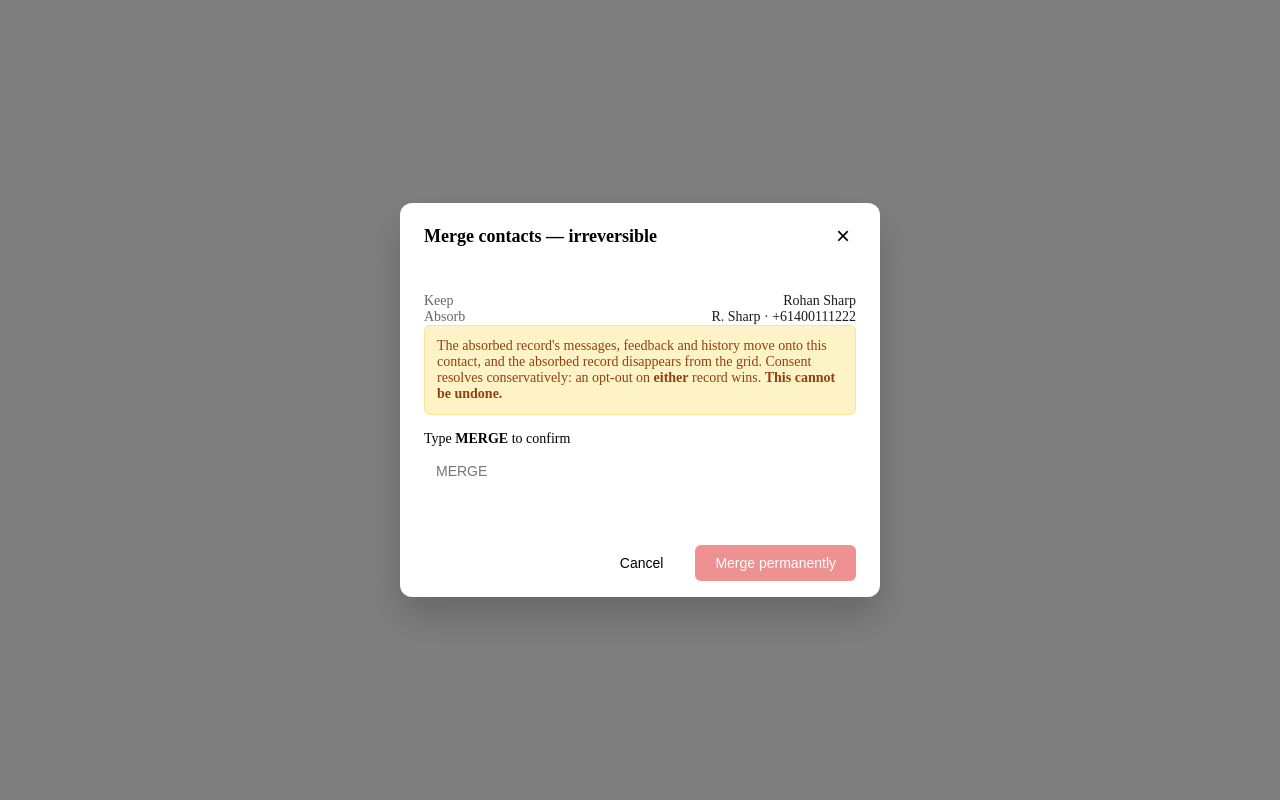
Test case: MergeContactsModal › names both records and disables Merge until MERGE is typed exactly
The image size is (1280, 800).
Check: the text "Rohan Sharp" is shown, box [783,293,856,309]
Check: the text "R. Sharp · +61400111222" is shown, box [712,309,856,325]
Type "merge" into the field labelled "Type MERGE to confirm" at (652, 471), box [424,453,880,489]
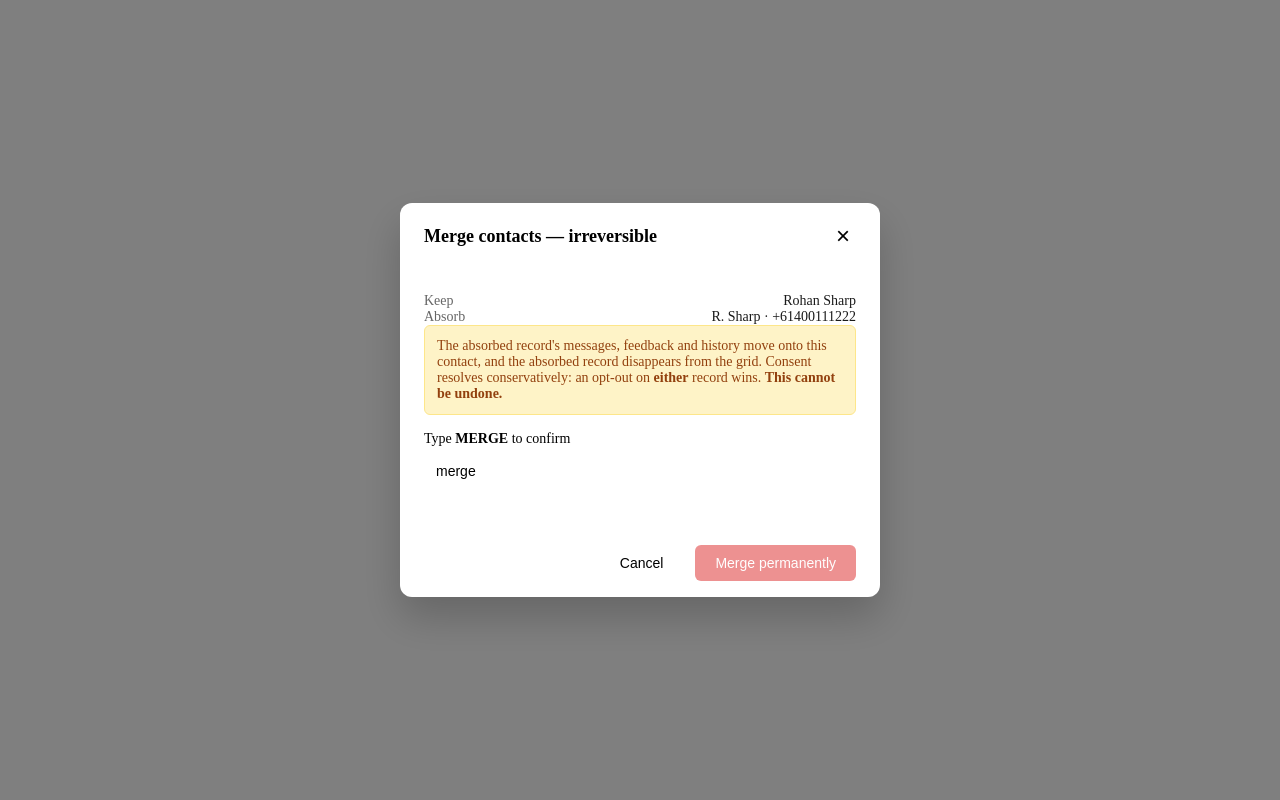
Check: the button "Merge permanently" is disabled, box [695,545,856,581]
Replace the text in the field labelled "Type MERGE to confirm" with "MERGE" at (652, 471), box [424,453,880,489]
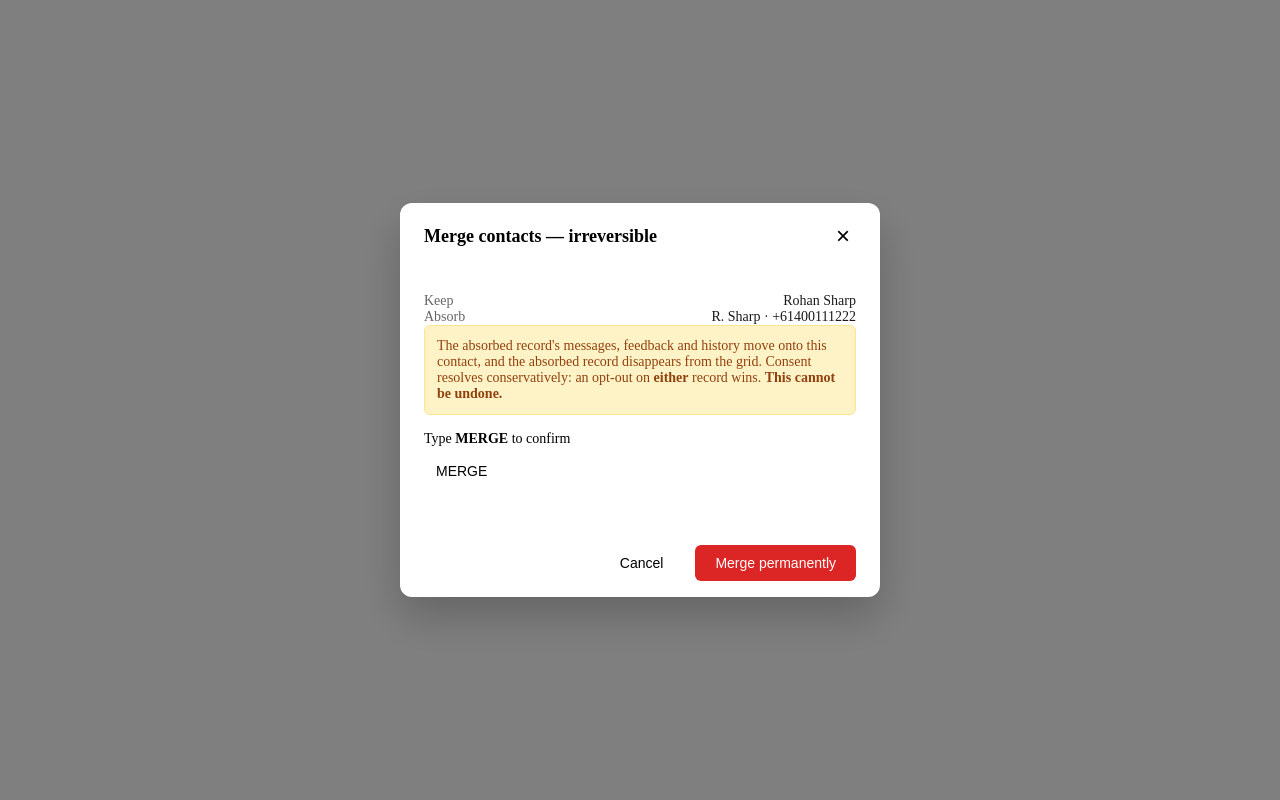
Check: the button "Merge permanently" is enabled, box [695,545,856,581]
